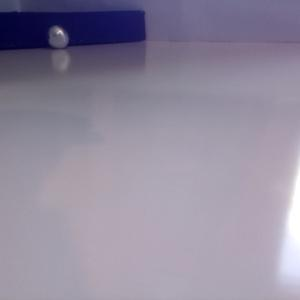zone: (1, 9, 147, 50)
